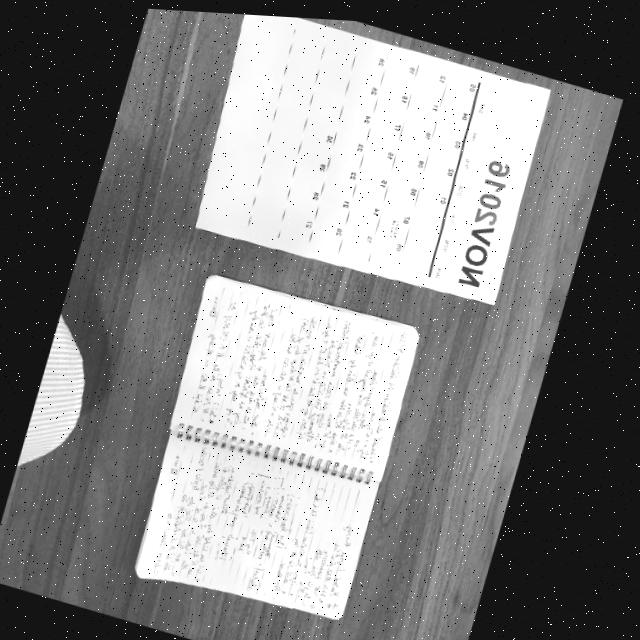document: (196, 14, 550, 303), (135, 275, 418, 619)
